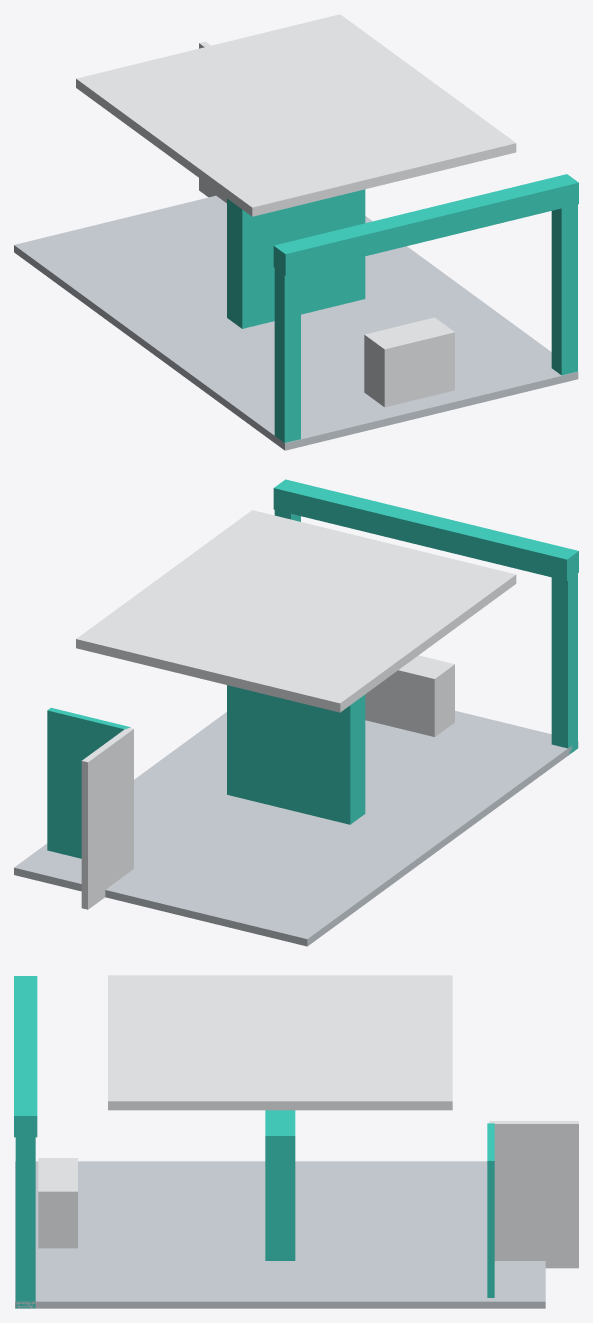
The picture shows the model from 3 angles, top to bottom: view 1: azimuth 30°, elevation 25°; view 2: azimuth 150°, elevation 25°; view 3: azimuth 270°, elevation 25°; orthographic projection. The views are drawn at different scales.
Visible parts, largest first — view 1: Exhibition Booth Concept; view 2: Exhibition Booth Concept; view 3: Exhibition Booth Concept.
Boxes of the visible parts, left/top/right/bottom form: Exhibition Booth Concept: left=14, top=14, right=578, bottom=450; Exhibition Booth Concept: left=14, top=479, right=578, bottom=946; Exhibition Booth Concept: left=14, top=975, right=578, bottom=1308.
Size of the model in its own units: 5 by 3.34 by 8.52.
